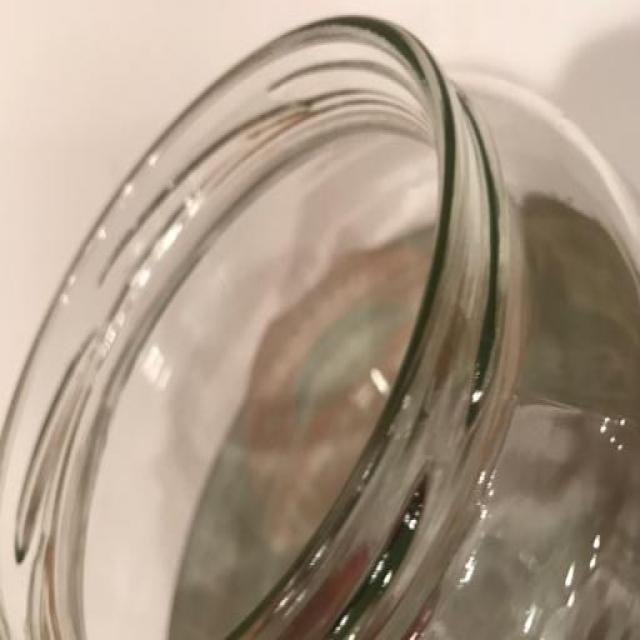Waste: (0, 17, 640, 639)
